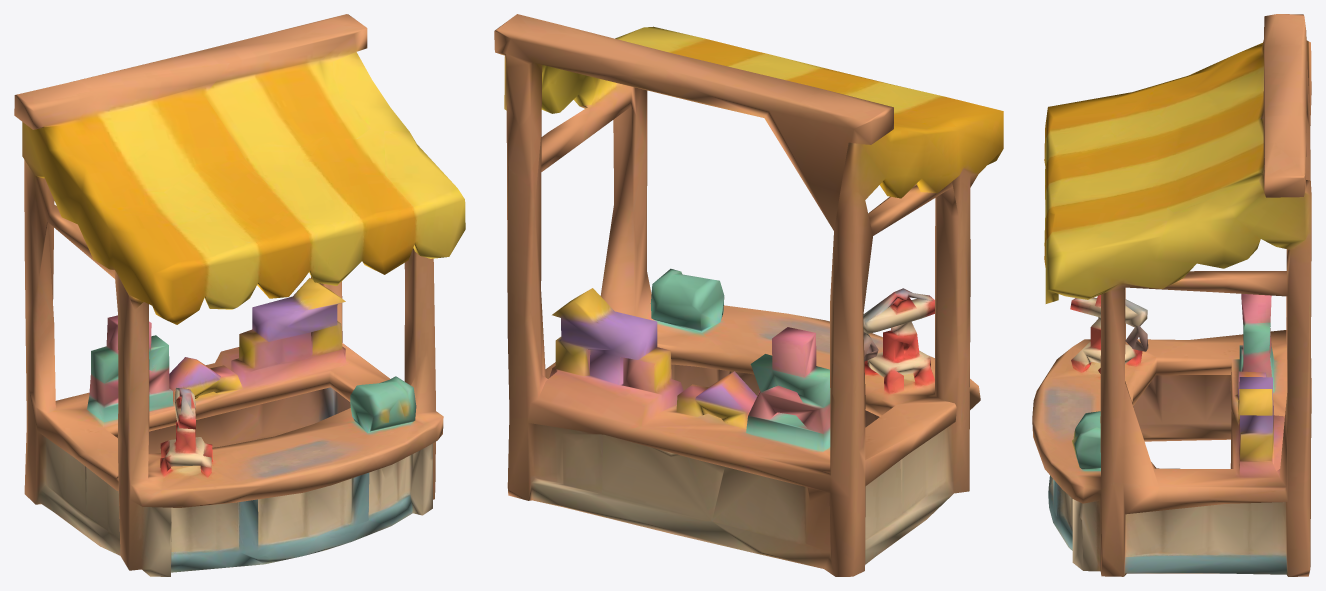
Rendered from stand-chantier.glb.
The picture shows the model from 3 angles, left to right: view 1: azimuth 30°, elevation 25°; view 2: azimuth 150°, elevation 25°; view 3: azimuth 270°, elevation 25°; orthographic projection. The views are drawn at different scales.
Visible parts, largest first — view 1: tripo_node_c32d813a-b9eb-437a-9552-00b71c9e3b1a; view 2: tripo_node_c32d813a-b9eb-437a-9552-00b71c9e3b1a; view 3: tripo_node_c32d813a-b9eb-437a-9552-00b71c9e3b1a.
Part boxes in pixels (box(x1,y1,x2,y2)): tripo_node_c32d813a-b9eb-437a-9552-00b71c9e3b1a: box(14, 14, 465, 576); tripo_node_c32d813a-b9eb-437a-9552-00b71c9e3b1a: box(494, 14, 1003, 576); tripo_node_c32d813a-b9eb-437a-9552-00b71c9e3b1a: box(1032, 14, 1311, 576).
Bounding box in the file's own units: 0.8583 × 1 × 0.6209.
Materials: 1 (1 with a texture image).
